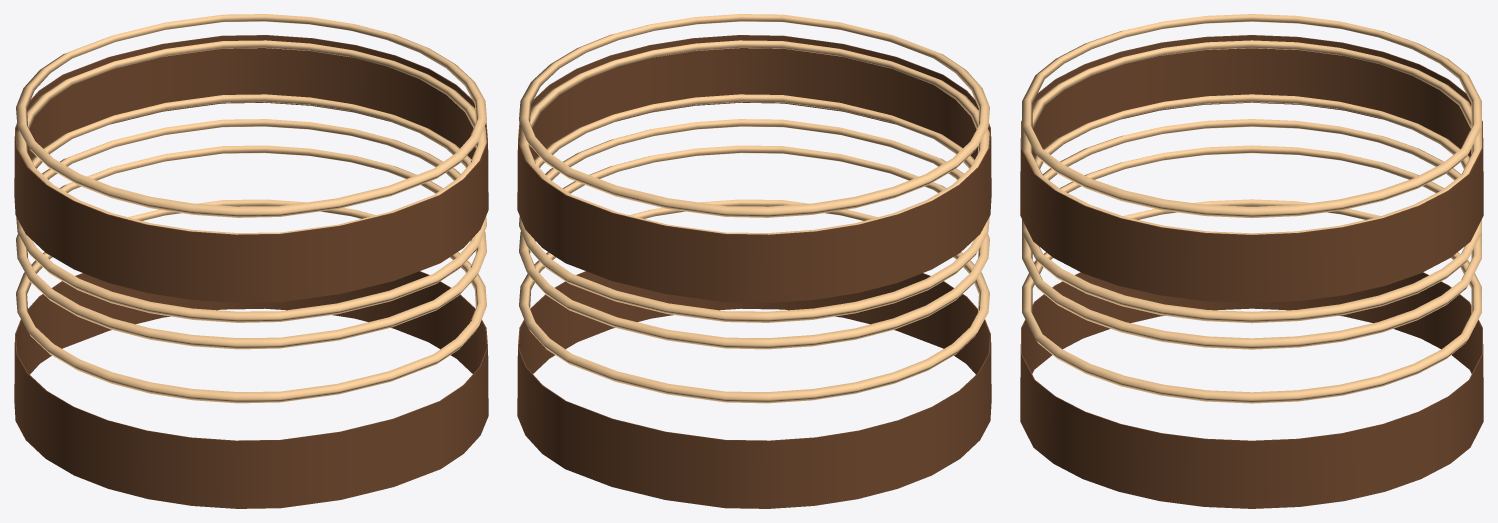
File: Tower_Station_01_SponsorRings_Art.fbx
3 renders of one model, left to right at view 1: azimuth 30°, elevation 25°; view 2: azimuth 150°, elevation 25°; view 3: azimuth 270°, elevation 25°, orthographic.
Visible parts, largest first — view 1: Tower_Station_01_SponsorRings_Art; view 2: Tower_Station_01_SponsorRings_Art; view 3: Tower_Station_01_SponsorRings_Art.
Boxes of the visible parts, x1=… form: Tower_Station_01_SponsorRings_Art: x1=14, y1=14, x2=488, y2=508; Tower_Station_01_SponsorRings_Art: x1=517, y1=14, x2=991, y2=508; Tower_Station_01_SponsorRings_Art: x1=1020, y1=14, x2=1483, y2=508.
Bounding box in the file's own units: 451 × 313 × 440.
